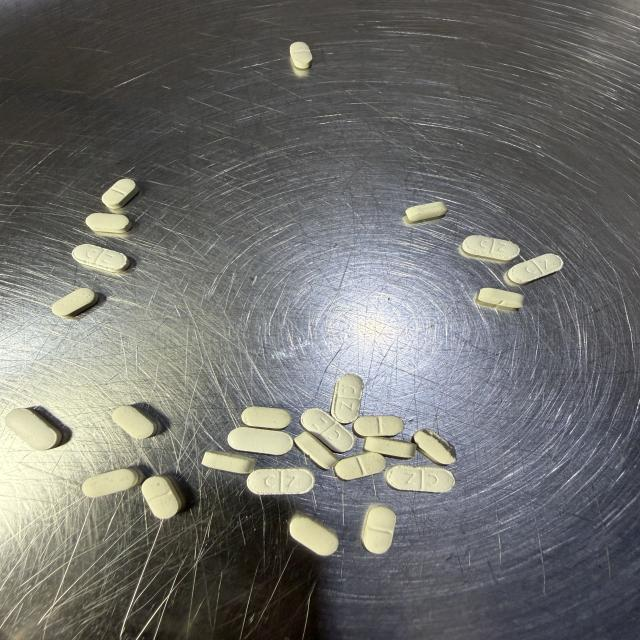pill: (301, 409, 354, 452), (6, 409, 61, 450), (289, 515, 338, 555), (228, 427, 293, 455), (386, 466, 455, 492), (142, 476, 184, 518), (247, 468, 314, 494), (82, 468, 142, 497), (508, 254, 563, 284), (294, 432, 338, 469), (72, 244, 129, 272), (331, 374, 363, 423), (362, 507, 395, 553), (413, 429, 456, 464), (112, 406, 157, 439), (334, 452, 385, 480), (462, 236, 519, 261), (52, 288, 98, 317), (363, 437, 416, 458), (202, 452, 254, 473), (242, 407, 291, 429), (102, 179, 139, 208), (353, 416, 404, 437), (477, 288, 524, 309), (86, 213, 131, 233), (406, 202, 447, 222), (290, 42, 312, 69)
